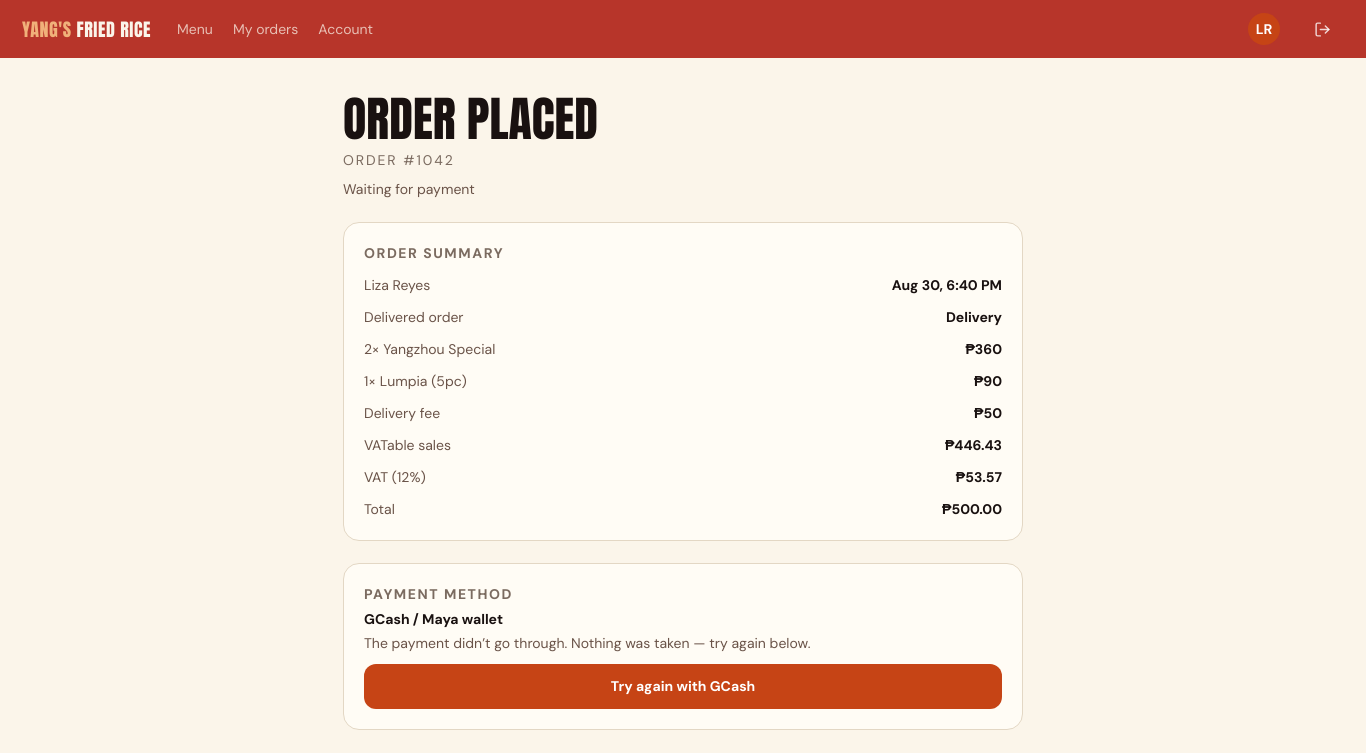
Test: OrderPlacedScreen online payment › shows the reason when the payment cannot be restarted
The width and height of the screenshot is (1366, 753).
Click the button "Try again with GCash" at (683, 687), box [364,664,1002,709]
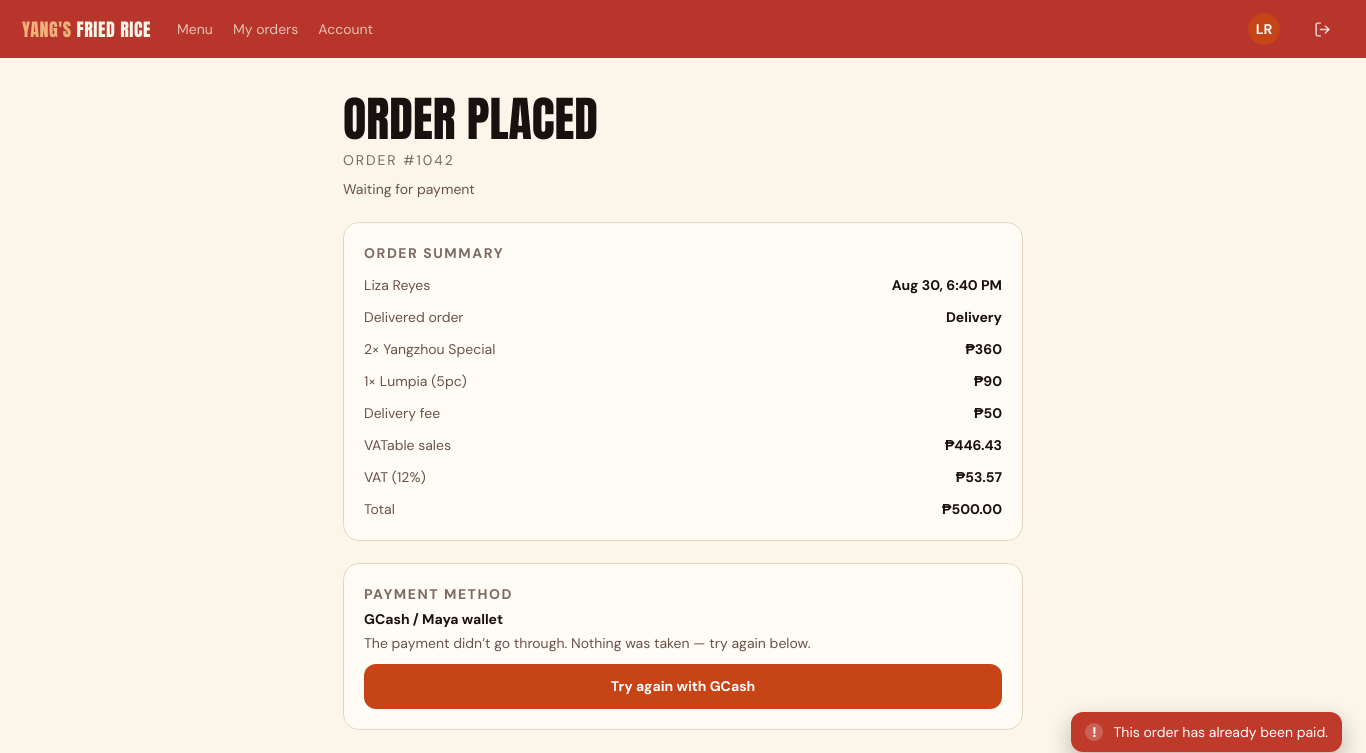
Expected: the text "This order has already been paid." is shown, [1114,723,1328,741]
